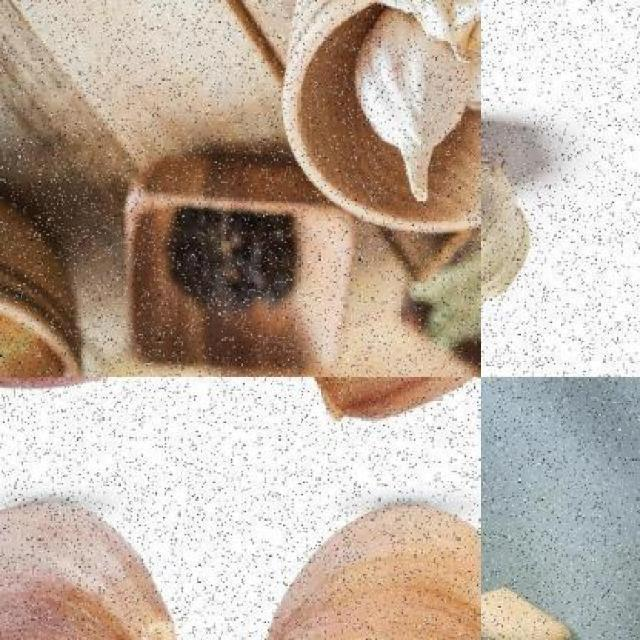garlic: (259, 502, 479, 640), (0, 494, 185, 640), (352, 4, 470, 204), (479, 584, 576, 640)
